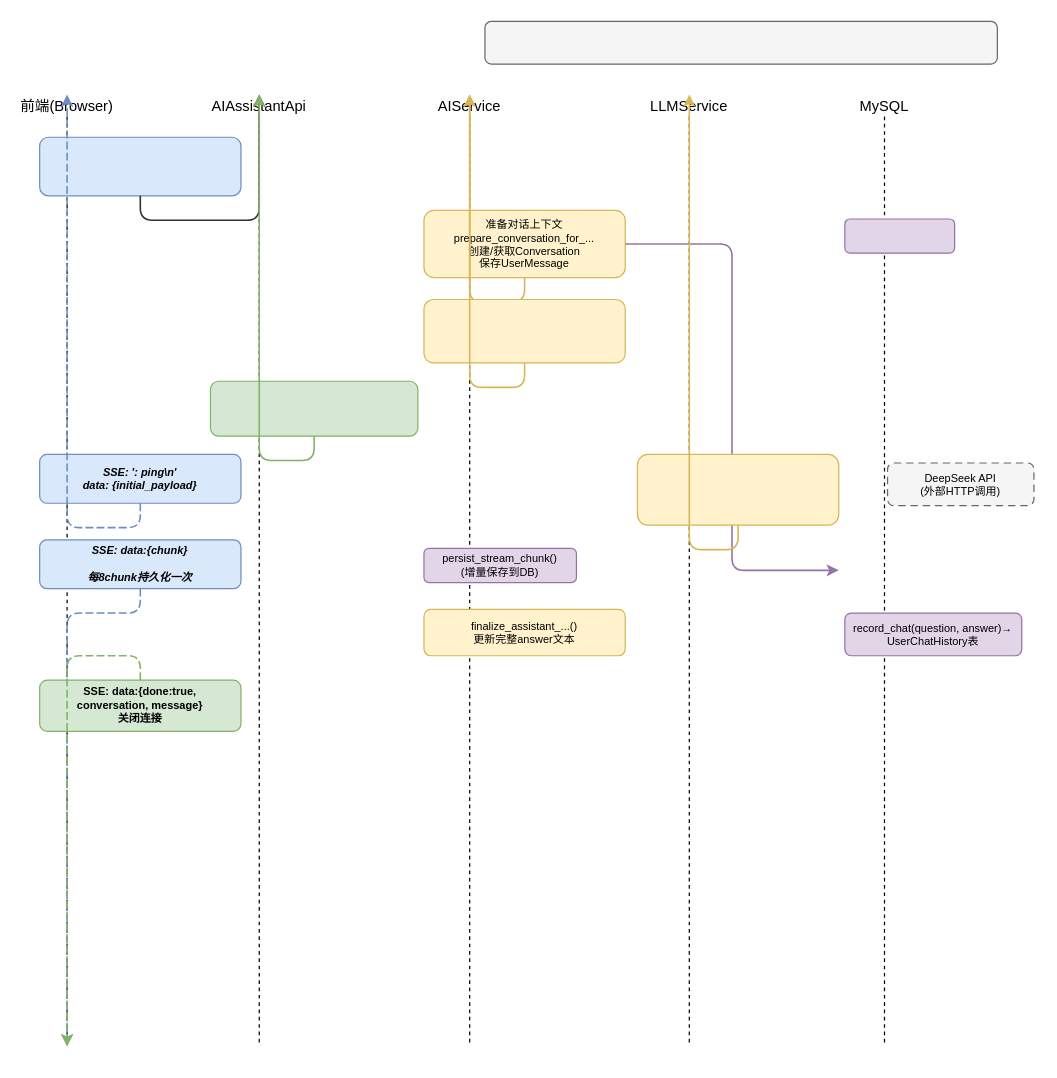
This 1057x1078 diagram has some shape labels left out. The box of each missing label's shape, as (x1, y1, x2, y2) in pixels:
AI智能对话 — SSE流式交互时序图: (484, 20, 997, 64)
build_messages_for_llm() [System: 金融分析师Prompt] + 历史消息(最近12轮): (423, 298, 625, 363)
create_streaming_reply_...() 返回 Response(mimetype= text/event-stream): (209, 380, 418, 436)
POST /ai/chat {question, conversation_id, stream:true}: (38, 136, 241, 196)
stream_chat_completion() for chunk in llm.stream(): yield data:{chunk}: (636, 453, 839, 525)
持久化到MySQL: (844, 218, 955, 253)
